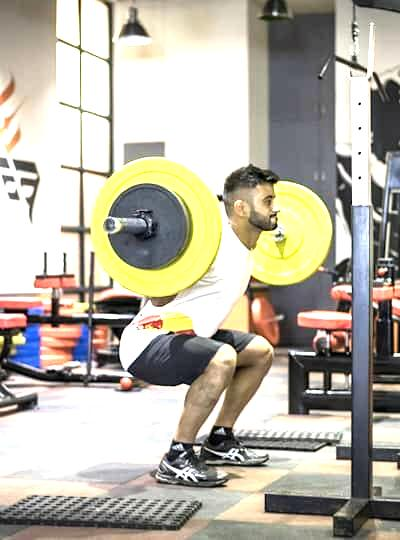Barbell: (100, 216, 126, 237)
